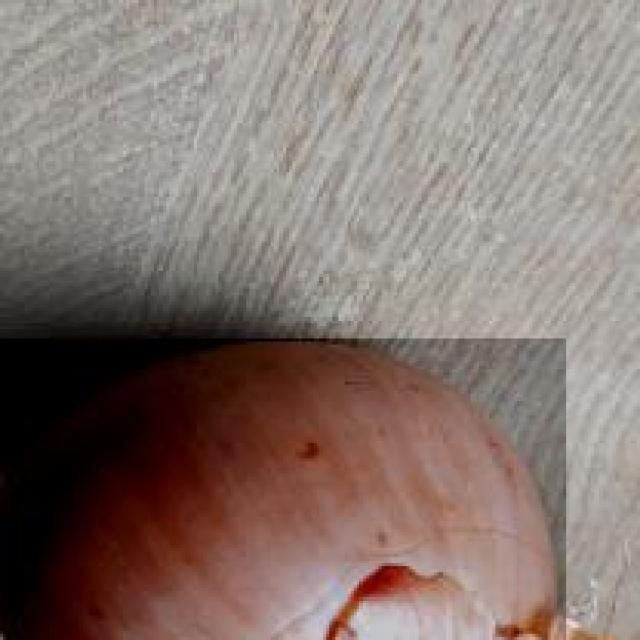onion: (0, 335, 569, 640)
